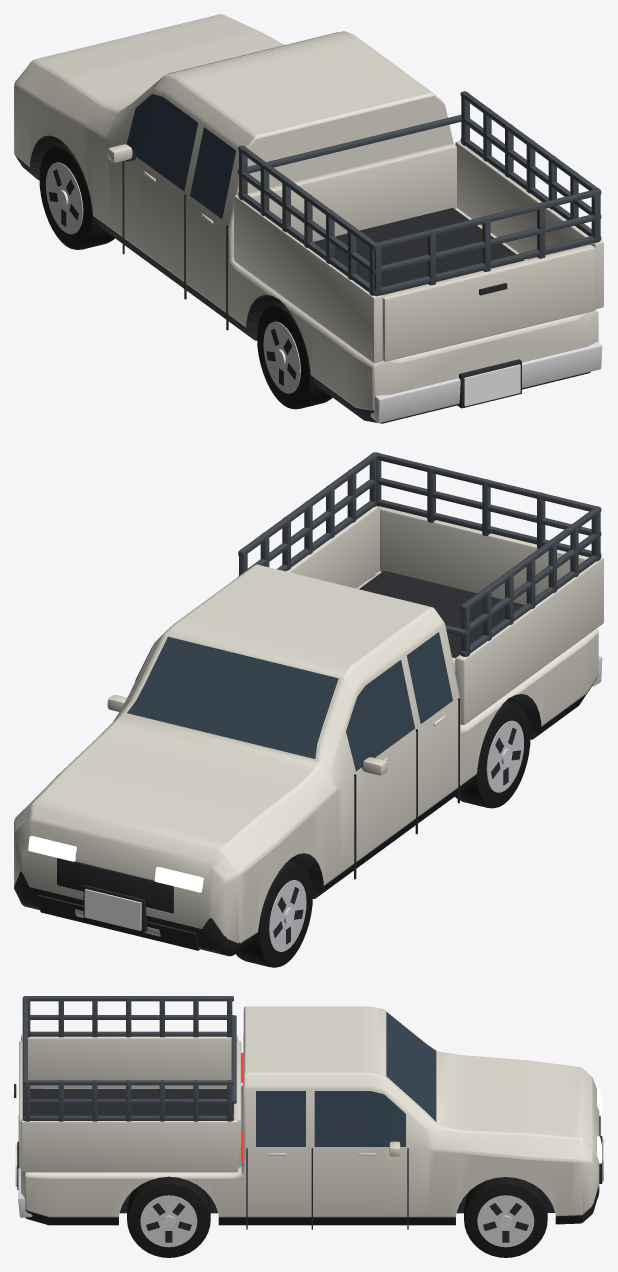
File: pickupcage.glb
3 renders of one model, top to bottom at view 1: azimuth 30°, elevation 25°; view 2: azimuth 150°, elevation 25°; view 3: azimuth 270°, elevation 25°, orthographic. The views are drawn at different scales.
Parts seen in each view (by area): view 1: CAR_pickupcage; view 2: CAR_pickupcage; view 3: CAR_pickupcage.
Boxes of the visible parts, left/top/right/bottom form: CAR_pickupcage: left=14, top=14, right=603, bottom=423; CAR_pickupcage: left=14, top=452, right=603, bottom=967; CAR_pickupcage: left=14, top=996, right=603, bottom=1257.
Bounding box in the file's own units: 2.26 × 1.81 × 5.43.
